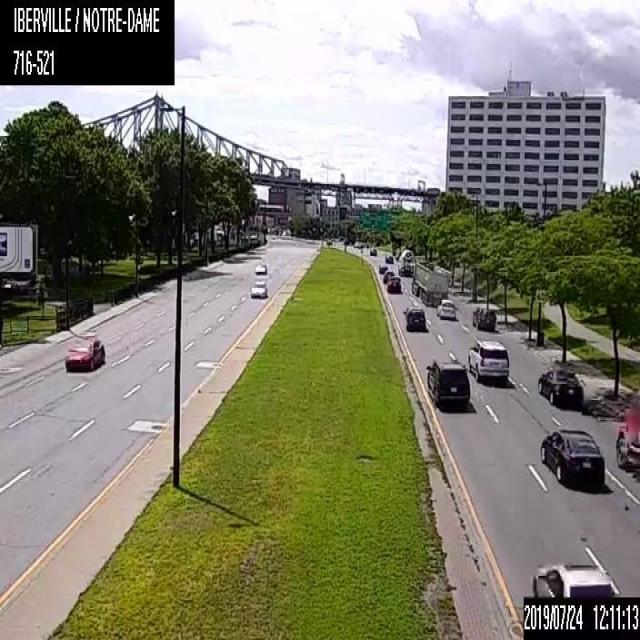vehicle: (538, 426, 604, 482), (531, 563, 613, 596), (424, 360, 470, 405), (468, 339, 508, 384), (537, 367, 584, 405), (411, 260, 450, 305), (62, 333, 104, 371), (614, 405, 639, 468), (471, 304, 496, 329), (404, 306, 426, 330), (436, 298, 456, 320), (397, 249, 413, 276), (249, 279, 266, 297), (387, 275, 401, 292), (382, 269, 394, 283), (254, 263, 266, 273), (352, 239, 363, 248), (368, 244, 376, 255), (384, 254, 393, 263), (378, 264, 387, 273)
